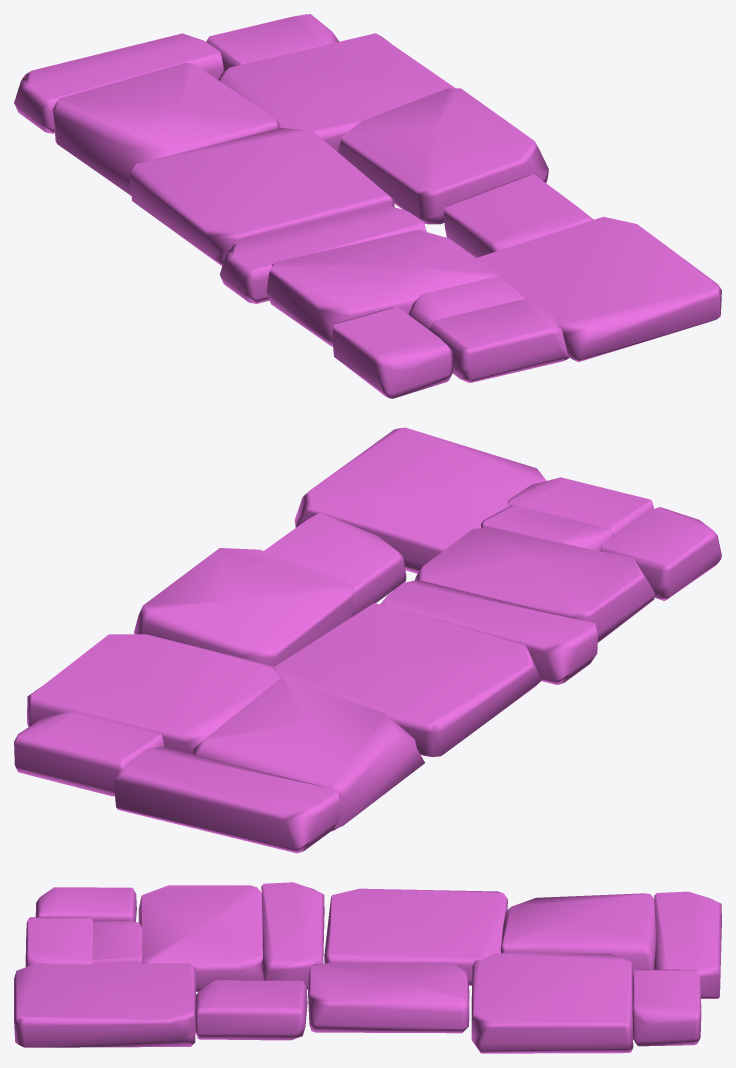
The model's file is Fireplace_01D_Lod0.fbx.
3 views of the same model, one above another, from view 1: azimuth 30°, elevation 25°; view 2: azimuth 150°, elevation 25°; view 3: azimuth 270°, elevation 25° (orthographic). The views are drawn at different scales.
Visible parts, largest first — view 1: Fireplace_01D_Lod0; view 2: Fireplace_01D_Lod0; view 3: Fireplace_01D_Lod0.
Boxes of the visible parts, <box> form: Fireplace_01D_Lod0: <box>14,14,721,398</box>; Fireplace_01D_Lod0: <box>14,427,721,853</box>; Fireplace_01D_Lod0: <box>14,882,721,1053</box>.
Size of the model in its own units: 149 by 27.76 by 306.
